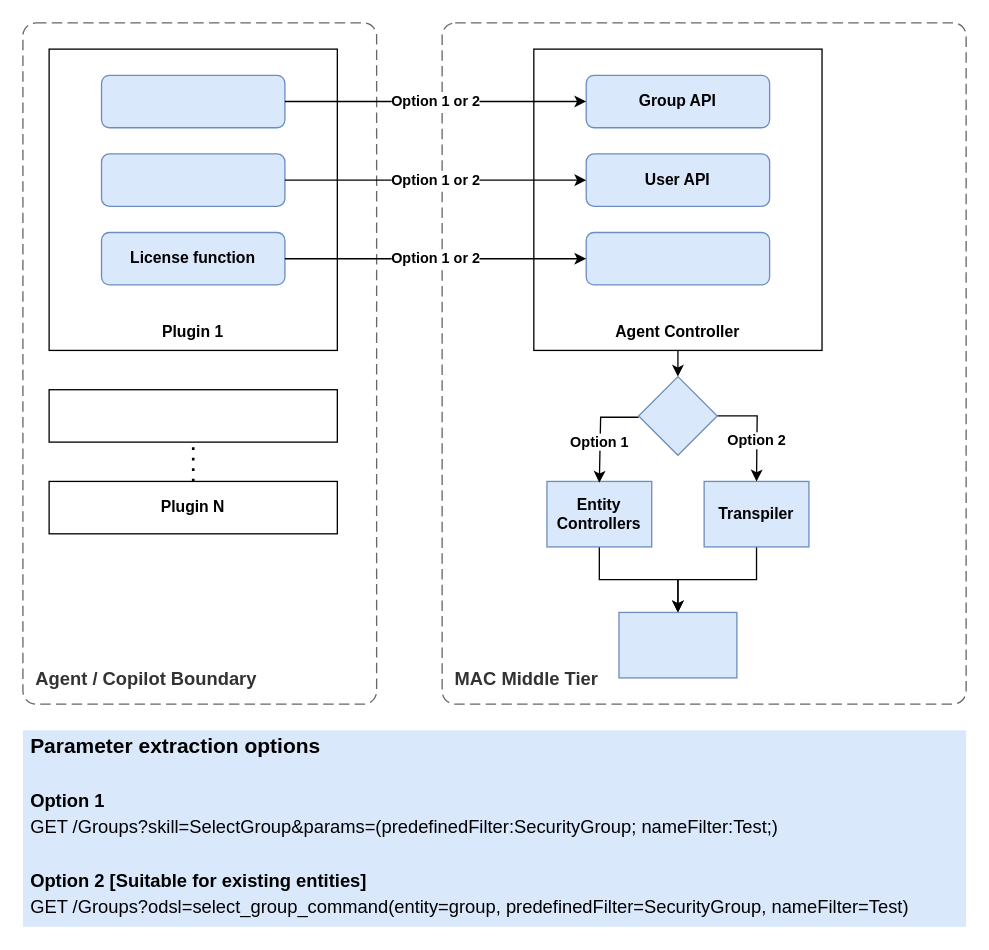
The diagram is 989 pixels wide and 950 high, and some of its shapes have lost their labels. The centre of each missing label's shape, as x and y in pixels:
1P API Services: the point at 677,644
Group function: the point at 192,101
License API: the point at 677,258
Options: the point at 677,415
Plugin 2: the point at 192,415
User function: the point at 192,179
